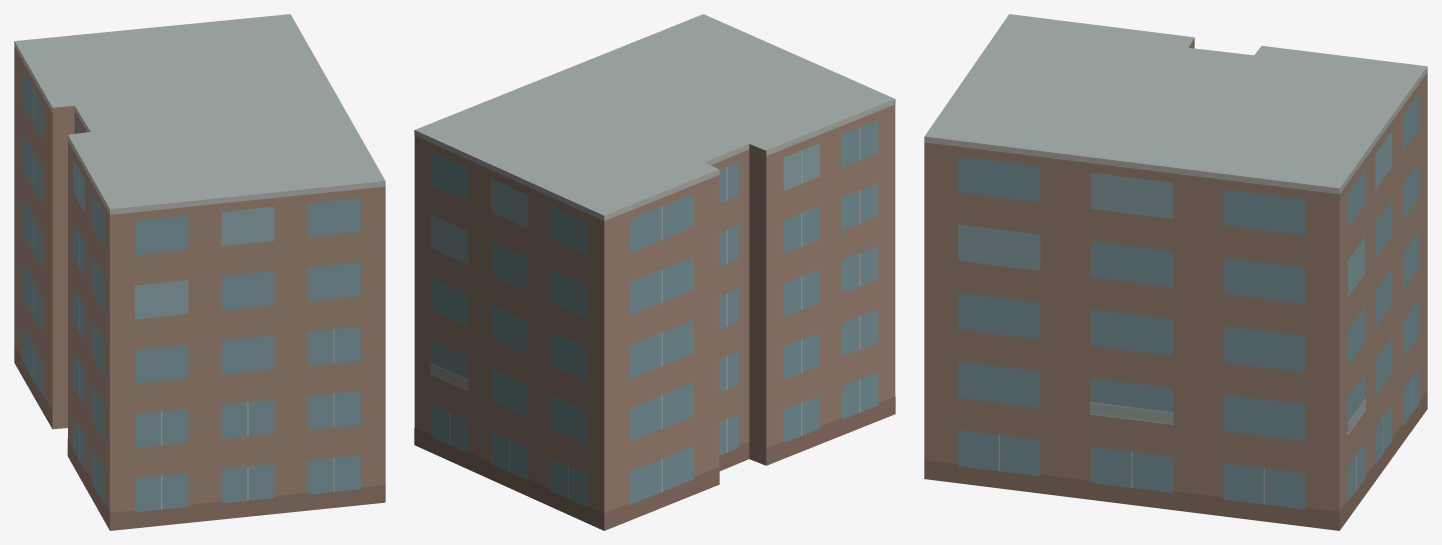
Rendered from survey-upis-32868083.glb.
3 renders of one model, left to right at view 1: azimuth 30°, elevation 25°; view 2: azimuth 150°, elevation 25°; view 3: azimuth 270°, elevation 25°, orthographic. The views are drawn at different scales.
Visible parts, largest first — view 1: survey-upis-32868083.tmp; view 2: survey-upis-32868083.tmp; view 3: survey-upis-32868083.tmp.
Part boxes in pixels (x1=…): survey-upis-32868083.tmp: x1=14, y1=14, x2=385, y2=530; survey-upis-32868083.tmp: x1=414, y1=14, x2=895, y2=530; survey-upis-32868083.tmp: x1=924, y1=14, x2=1427, y2=530.
Bounding box in the file's own units: 15.63 × 14.3 × 19.06.
